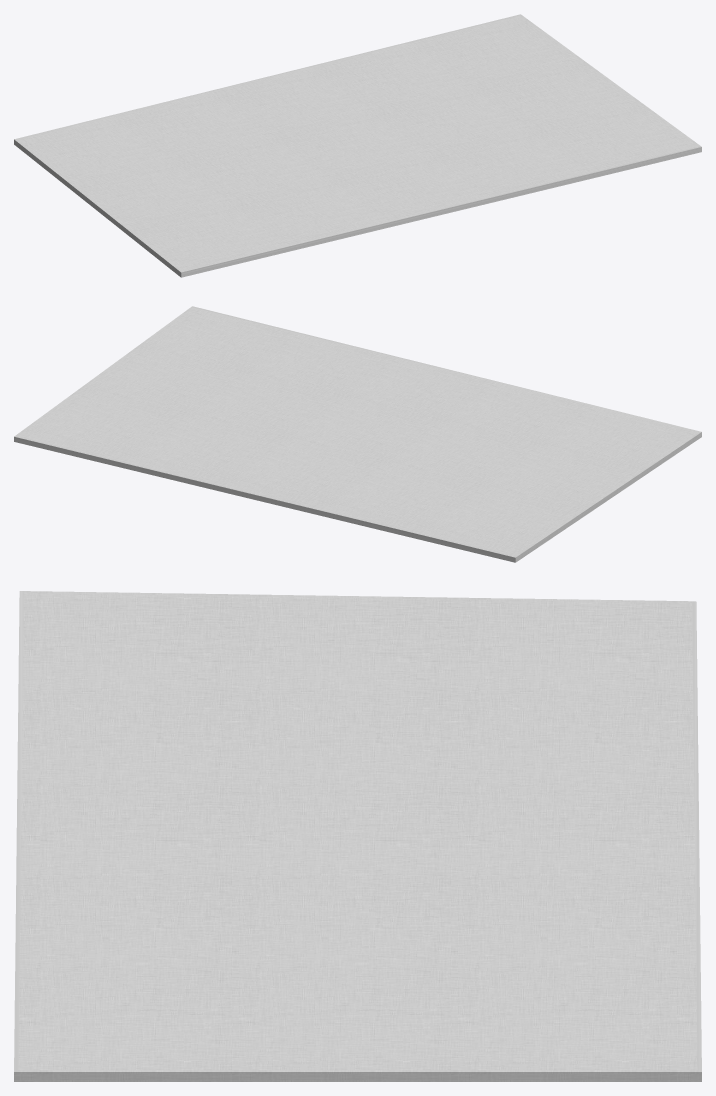
3 views of the same model, one above another, from view 1: azimuth 30°, elevation 25°; view 2: azimuth 150°, elevation 25°; view 3: azimuth 270°, elevation 25° (orthographic). The views are drawn at different scales.
Parts seen in each view (by area): view 1: Ceiling#0_2; view 2: Ceiling#0_2; view 3: Ceiling#0_2.
Boxes of the visible parts, <box> form: Ceiling#0_2: <box>14,14,701,277</box>; Ceiling#0_2: <box>14,306,701,562</box>; Ceiling#0_2: <box>14,591,701,1081</box>.
Bounding box in the file's own units: 5.2 × 0.05 × 3.14.
Materials: 1 (1 with a texture image).
